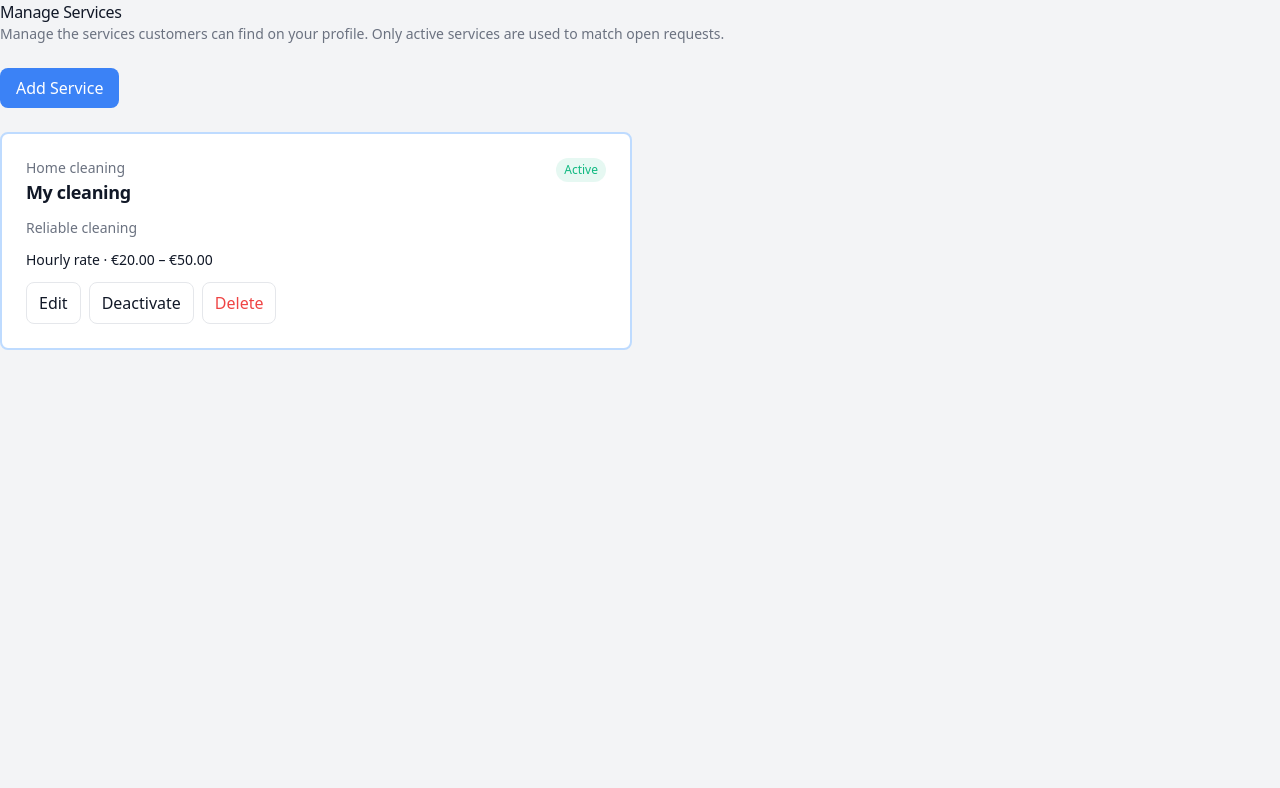
it: service management screen › creates a service and clears empty prices explicitly
The width and height of the screenshot is (1280, 788).
Check: the heading "My cleaning" is shown, box [26,178,131,206]
Click the button "Add Service" at [60, 88], box [0,68,120,108]
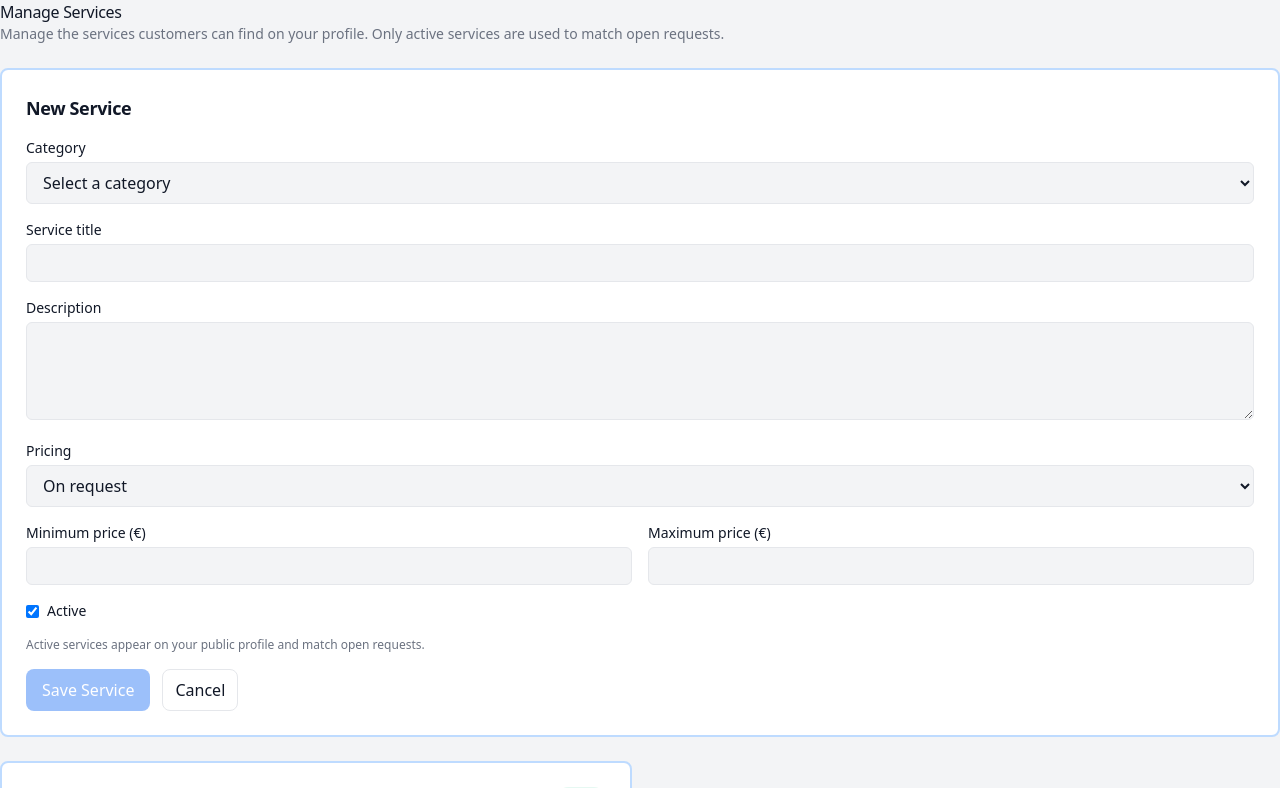
Select "Home cleaning" in the dropdown labelled "Category" at [640, 183], box [26,162,1254,204]
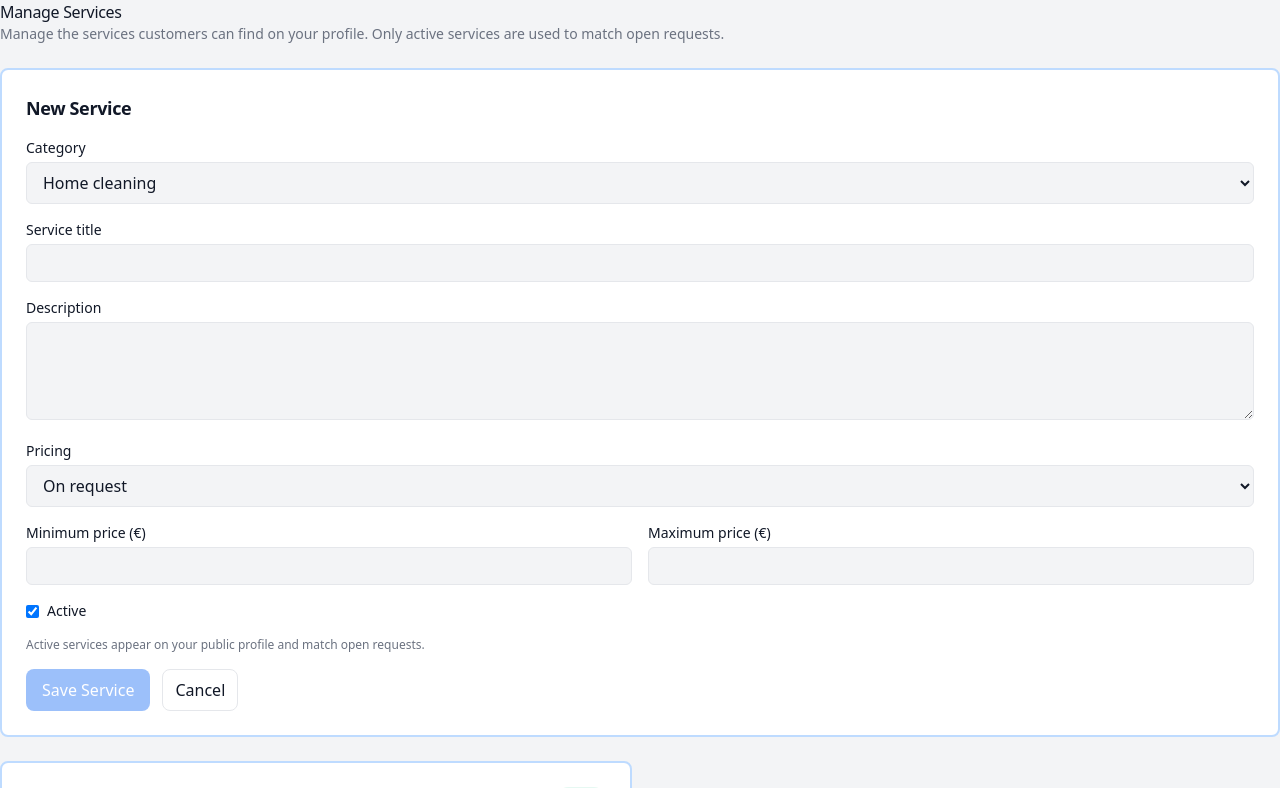
Type "Office cleaning" into the field labelled "Service title" at [640, 263], box [26,244,1254,282]
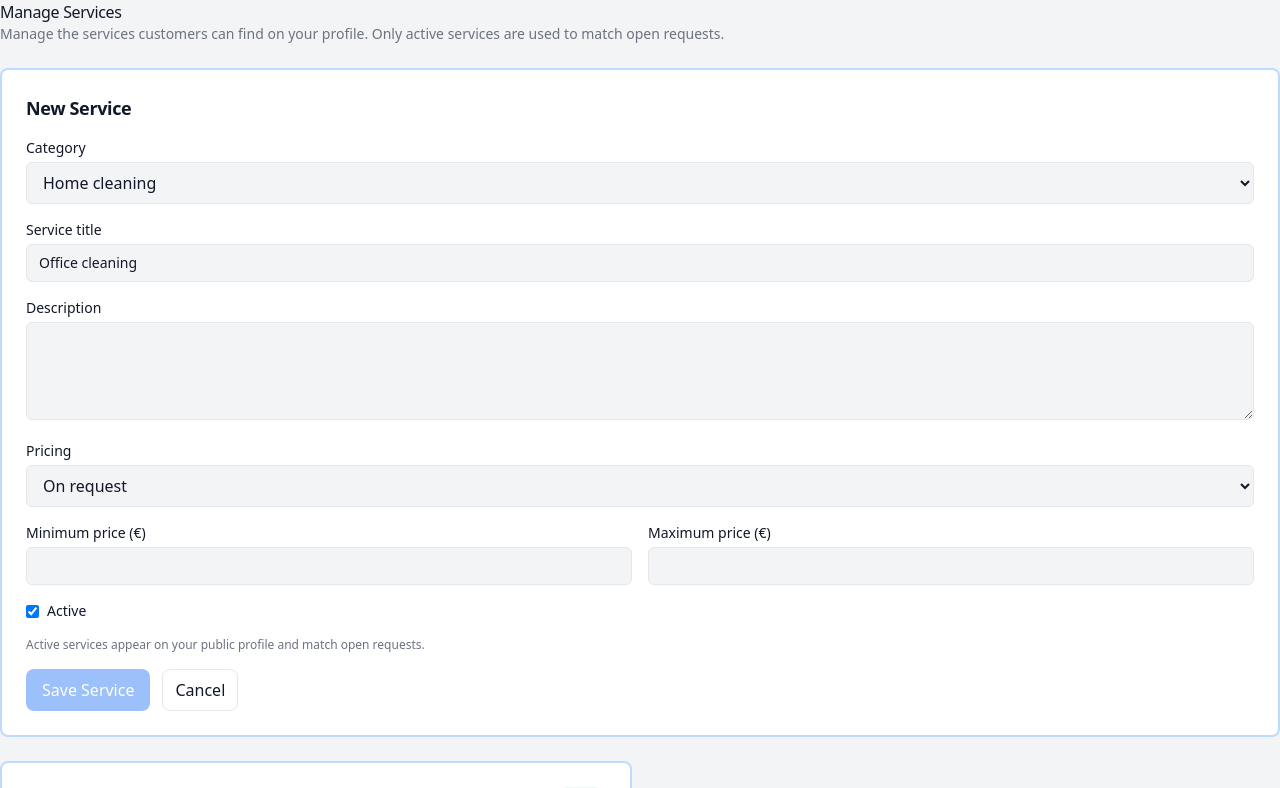
Type "We clean offices" into the text box labelled "Description" at [640, 371], box [26,322,1254,420]
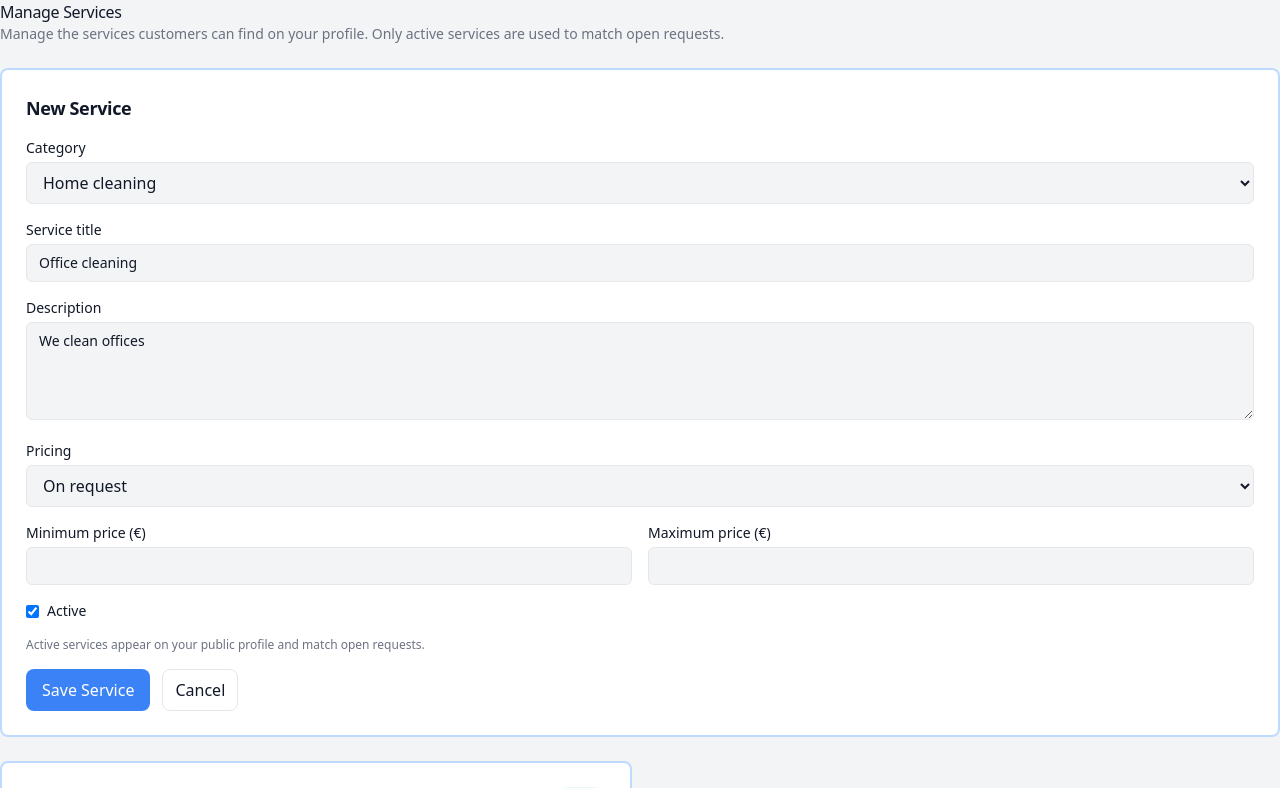
Click the button "Save Service" at [88, 690], box [26,669,150,711]
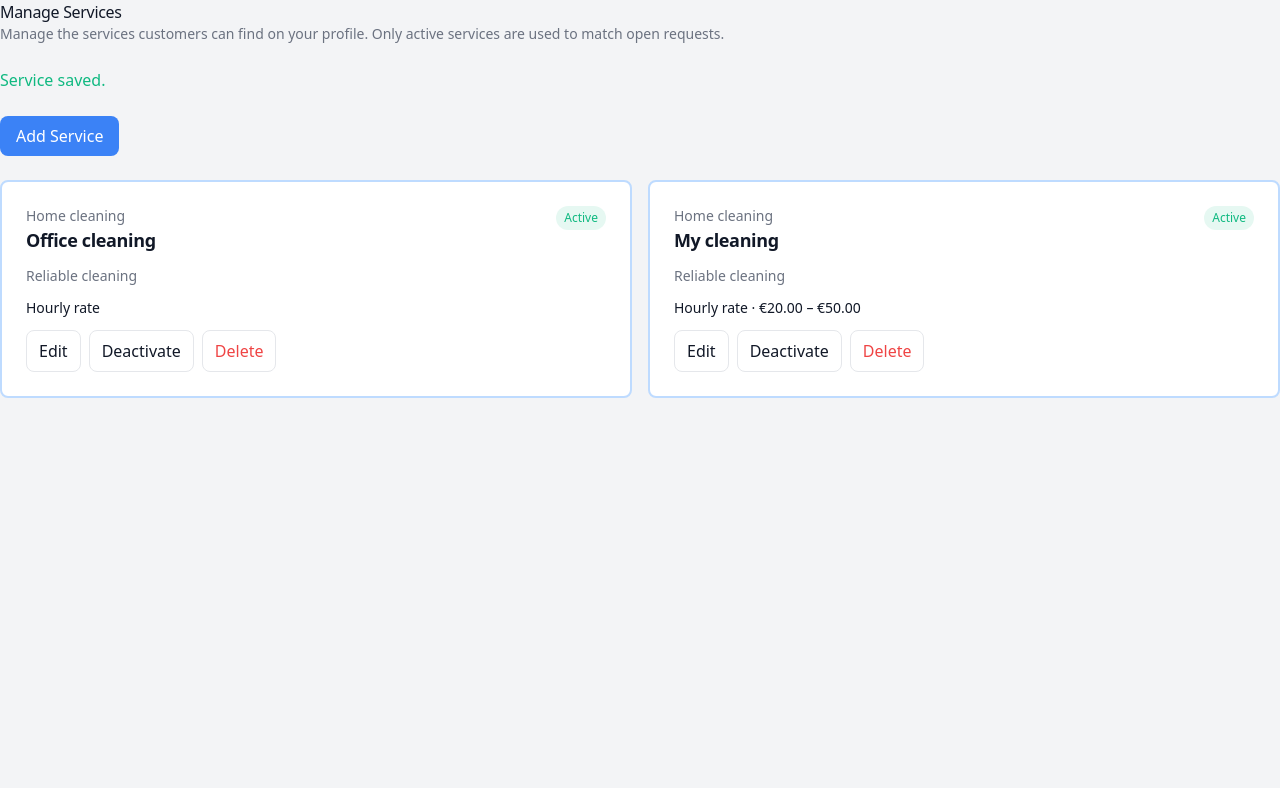
Check: the heading "Office cleaning" is shown, box [26,226,156,254]
